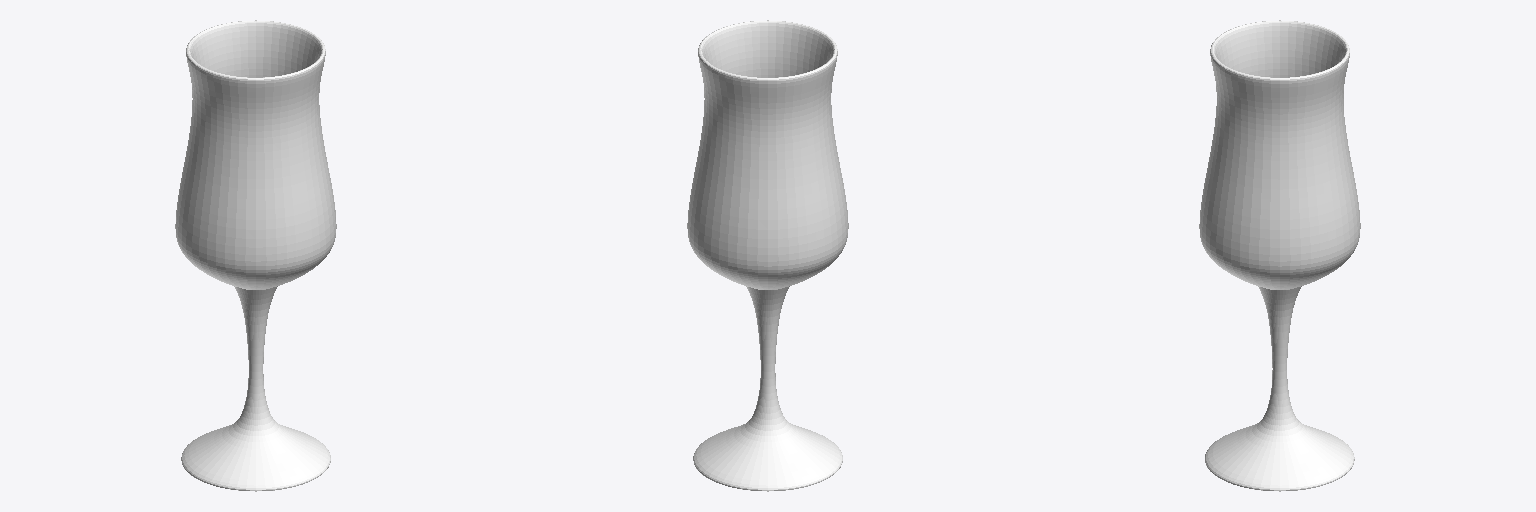
The robot description file, URDF, robot "apple":
<?xml version="0.0" ?>
<robot name="apple">
  <link name="baseLink">
    <contact>
      <lateral_friction value="1.0"/>
      <rolling_friction value="0.0"/>
      <contact_cfm value="0.0"/>
      <contact_erp value="1.0"/>
    </contact>
    <inertial>
      <origin rpy="1.57 0 0" xyz="0 0 -0.0"/>
       <mass value=".1"/>
       <inertia ixx="1" ixy="0" ixz="0" iyy="1" iyz="0" izz="1"/>
    </inertial>
    <visual>
      <origin rpy="1.57 0 0" xyz="0 0 0"/>
      <geometry>
        <mesh filename="meshes/notextures/glass3.obj" scale="0.08 0.08 0.08"/>
      </geometry>
      <material name="glass">
        <color rgba="1 1 1 1"/>
      </material>
    </visual>
    <collision>
      <origin rpy="1.57 0 0" xyz="0 0 0"/>
      <geometry>
	 	<mesh filename="meshes/notextures/glass3.obj" scale="0.08 0.08 0.08"/>
      </geometry>
    </collision>
  </link>
</robot>

--- Facts derived from the render (not from the file) ---
3 views of the same robot in one strip: view 1: azimuth 30°, elevation 25°; view 2: azimuth 150°, elevation 25°; view 3: azimuth 270°, elevation 25° (orthographic).
Model apple with 1 links and 0 joints (none), rooted at baseLink, posed every joint at zero.
Links seen in each view (by area): view 1: baseLink; view 2: baseLink; view 3: baseLink.
Boxes of the visible links, left/top/right/bottom form: baseLink: left=175, top=20, right=336, bottom=491; baseLink: left=687, top=20, right=848, bottom=491; baseLink: left=1199, top=20, right=1360, bottom=491.
Bounding box of the posed robot: 0.0559 × 0.0558 × 0.1577 m (x, y, z).
Meshes: 1 distinct files referenced, 1 mesh visuals loaded (1 OBJ).